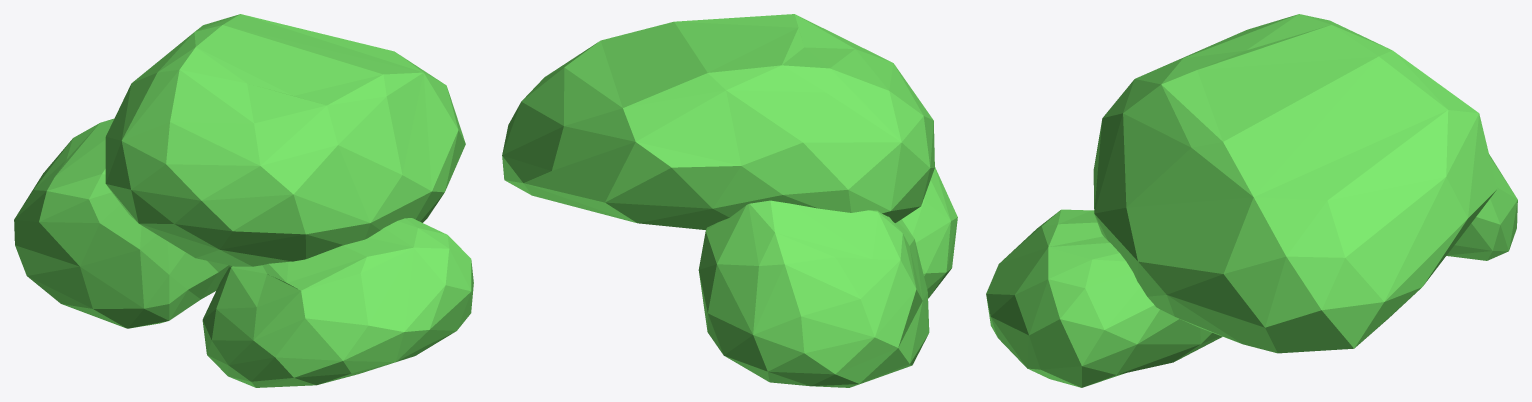
Rendered from BigLeaves.fbx.
3 views of the same model, side by side, from view 1: azimuth 30°, elevation 25°; view 2: azimuth 150°, elevation 25°; view 3: azimuth 270°, elevation 25° (orthographic). The views are drawn at different scales.
Visible parts, largest first — view 1: BigLeaves; view 2: BigLeaves; view 3: BigLeaves.
Boxes of the visible parts, <box> form: BigLeaves: <box>14,14,473,387</box>; BigLeaves: <box>502,14,957,387</box>; BigLeaves: <box>986,14,1517,387</box>.
Bounding box in the file's own units: 3.45 × 2.25 × 3.4.
